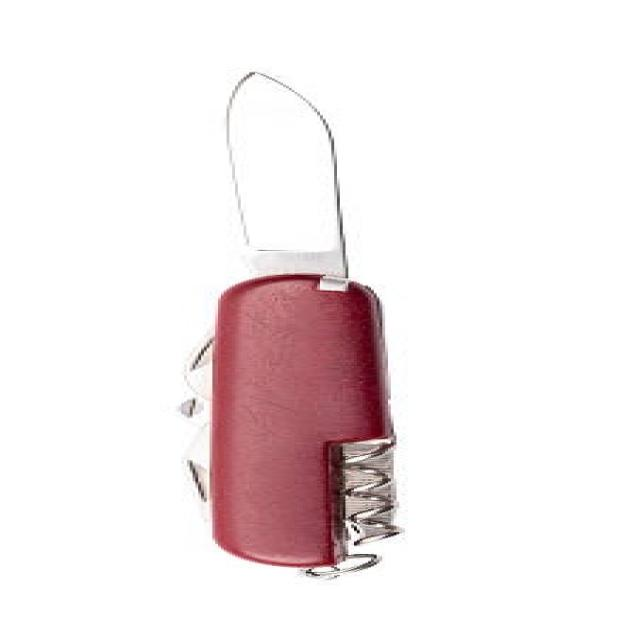knife: (166, 70, 426, 585)
